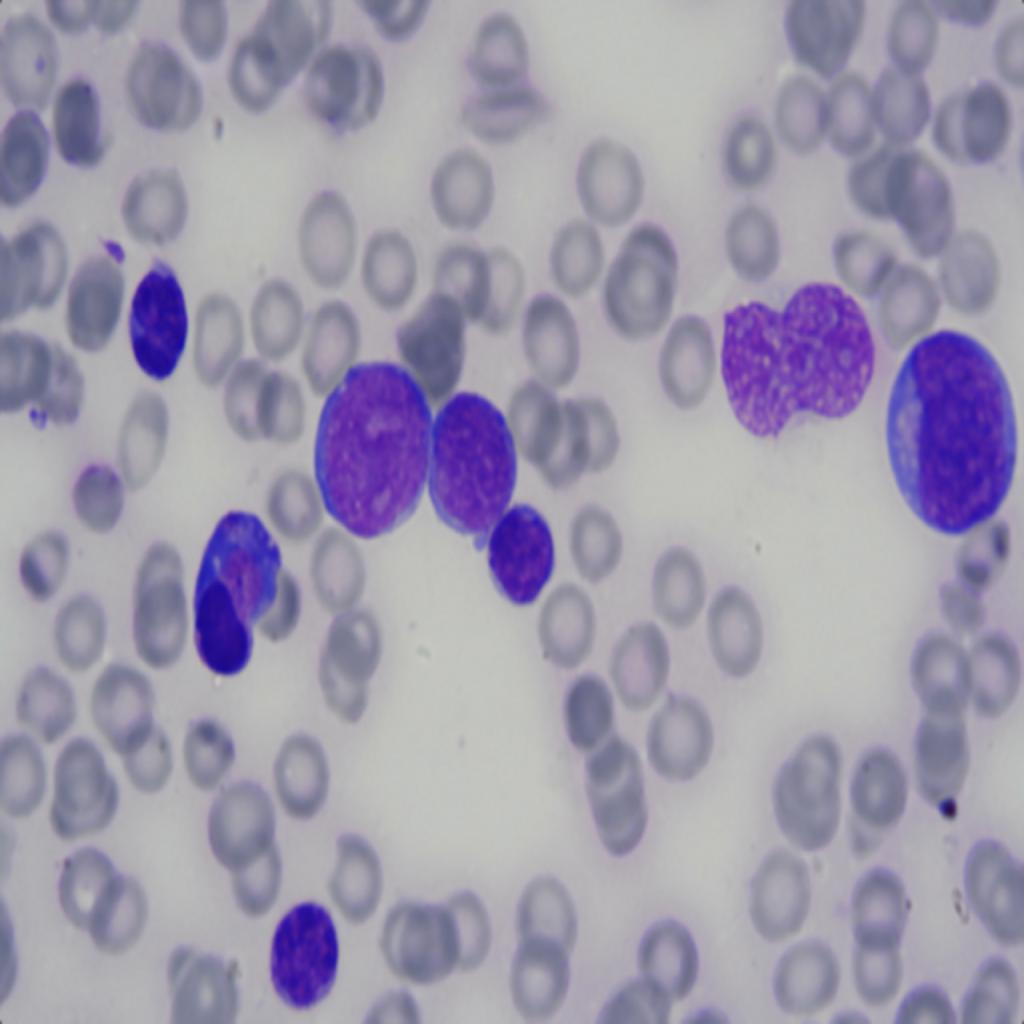Myeoblast: (879, 319, 1022, 535), (311, 349, 436, 546), (182, 505, 288, 693), (419, 376, 521, 536), (253, 895, 343, 1022), (122, 246, 194, 390), (486, 500, 562, 626)
